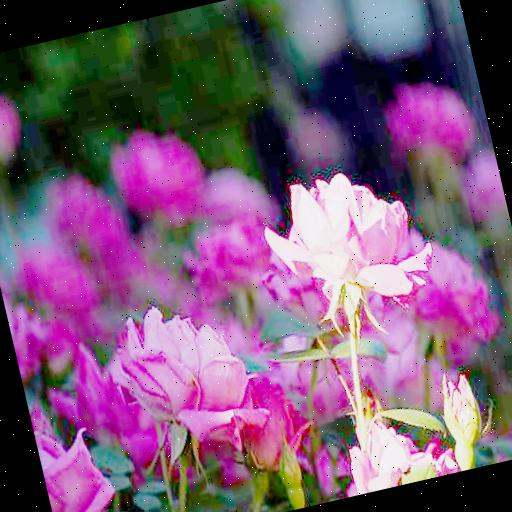rose: (256, 150, 442, 324), (112, 286, 274, 460)
